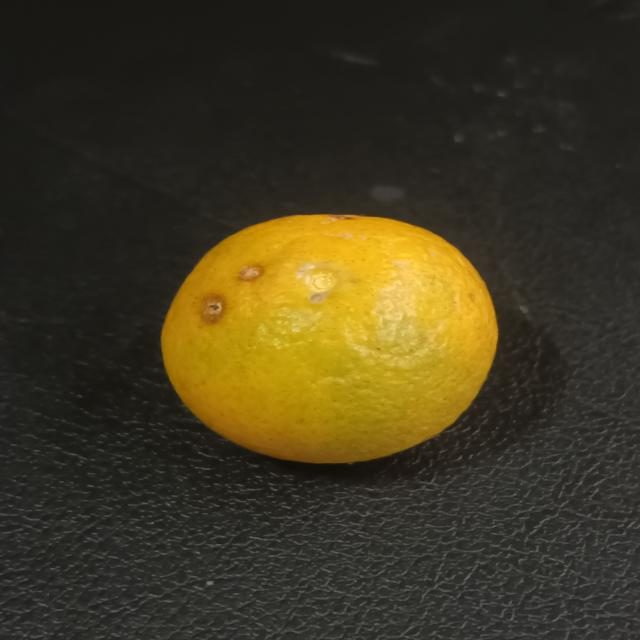black spot: (162, 212, 505, 465)
